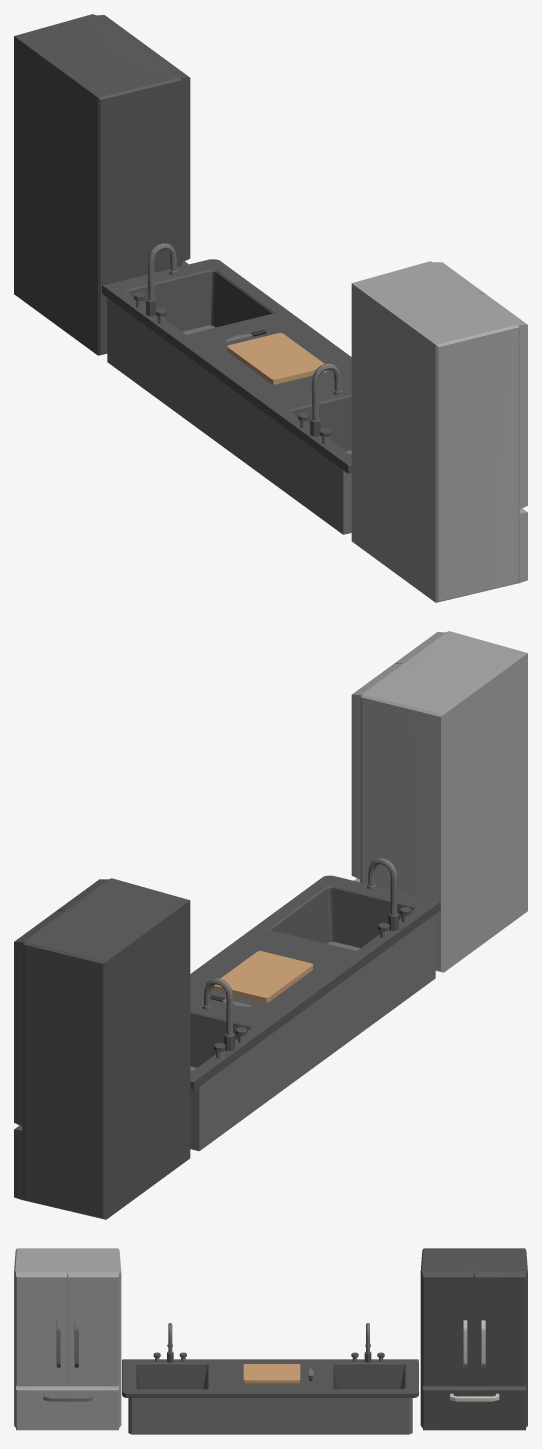
File: Obj_Objetos_de_Pared_1.fbx
The picture shows the model from 3 angles, top to bottom: view 1: azimuth 30°, elevation 25°; view 2: azimuth 150°, elevation 25°; view 3: azimuth 270°, elevation 25°; orthographic projection. The views are drawn at different scales.
Parts seen in each view (by area): view 1: Objetos_de_Pared_1; view 2: Objetos_de_Pared_1; view 3: Objetos_de_Pared_1.
Part boxes in pixels (left/top/right/bottom): Objetos_de_Pared_1: left=14, top=14, right=527, bottom=602; Objetos_de_Pared_1: left=14, top=631, right=527, bottom=1219; Objetos_de_Pared_1: left=14, top=1248, right=527, bottom=1434.
Size of the model in its own units: 3.36 by 7.3 by 21.74.
